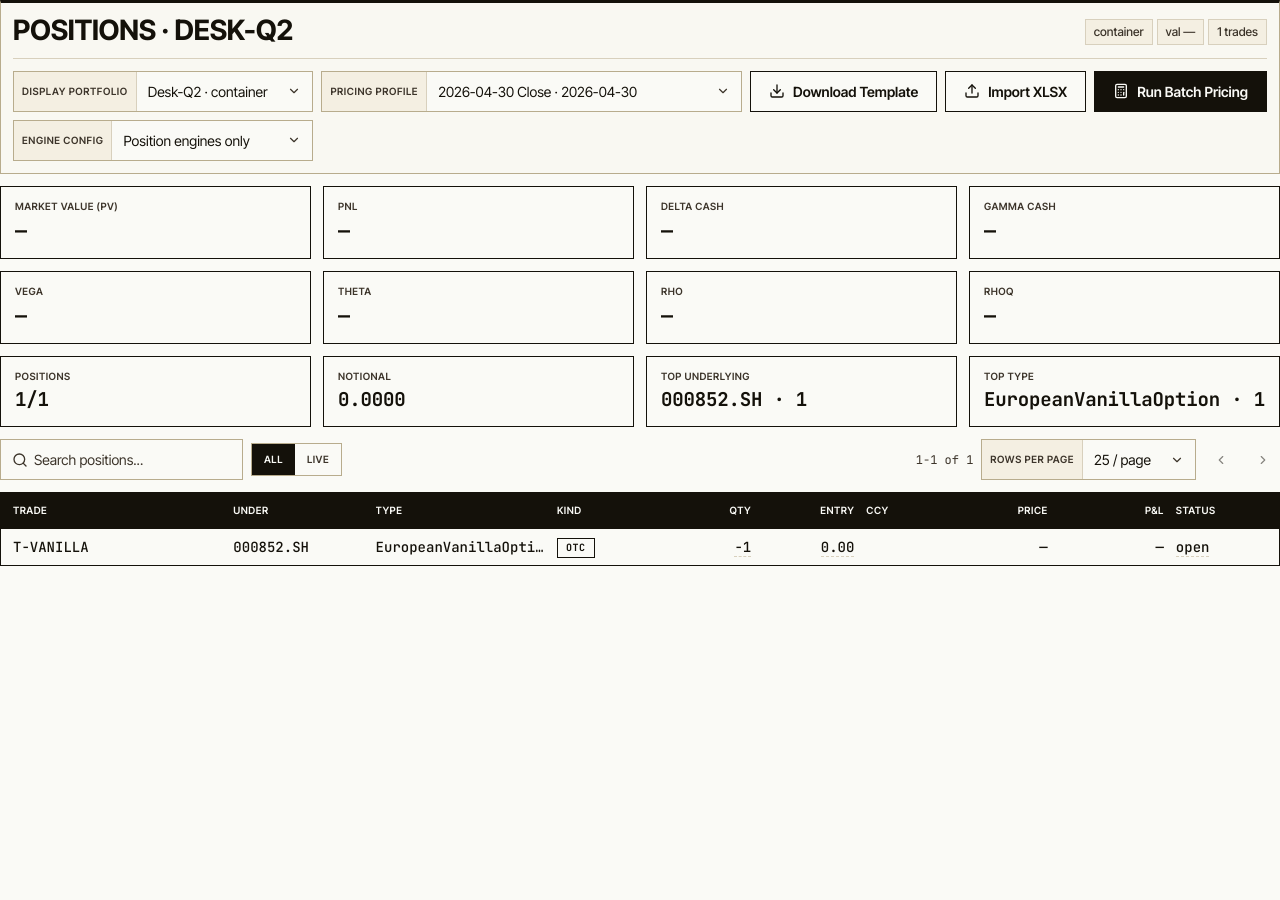
PositionsLive › prefills the position pricing ticket from the server-resolved pricing params
Click the text "T-VANILLA" at (51, 547), box [13, 538, 89, 556]
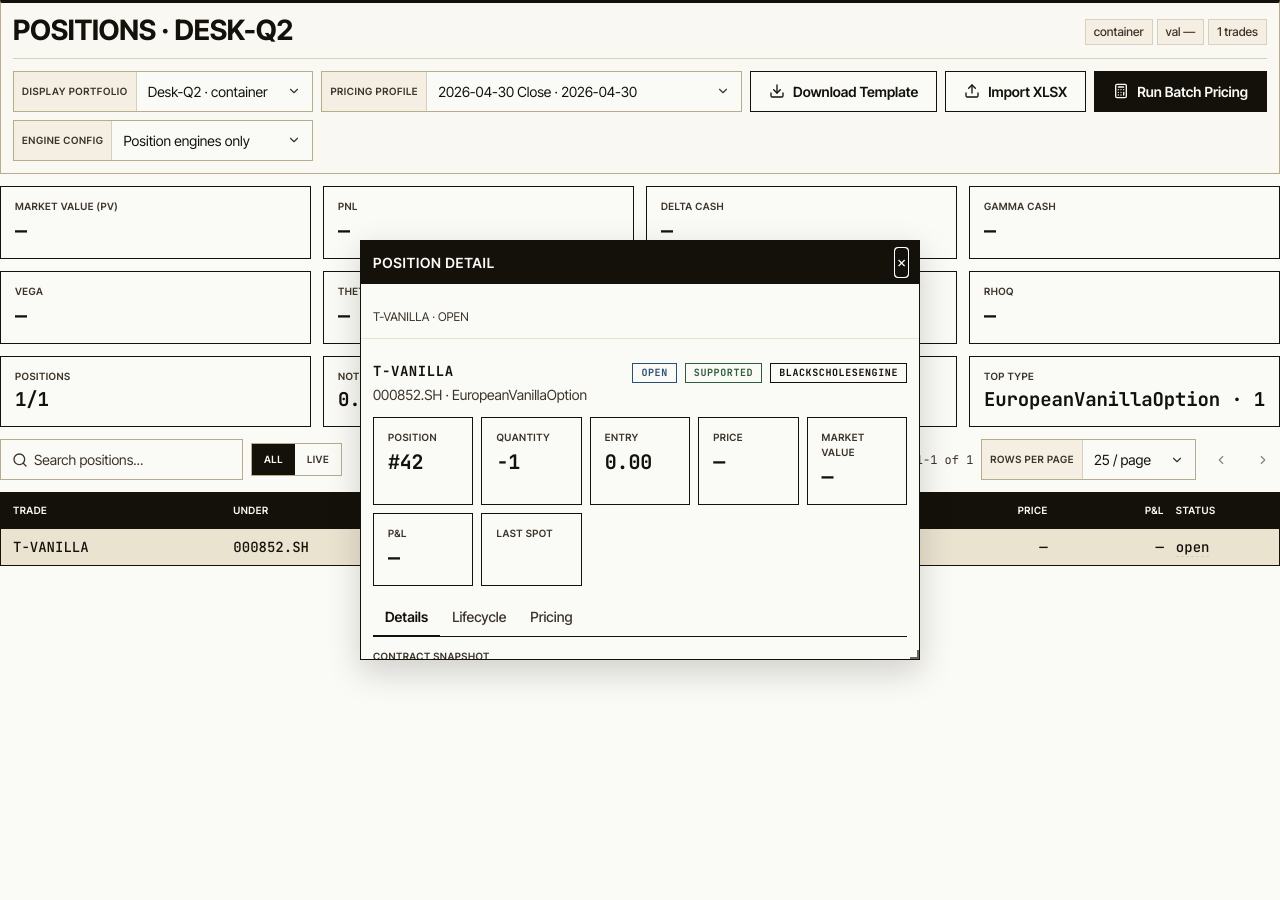
Click the tab "Pricing" at (551, 617), box [518, 598, 584, 637]
(page scrolled)
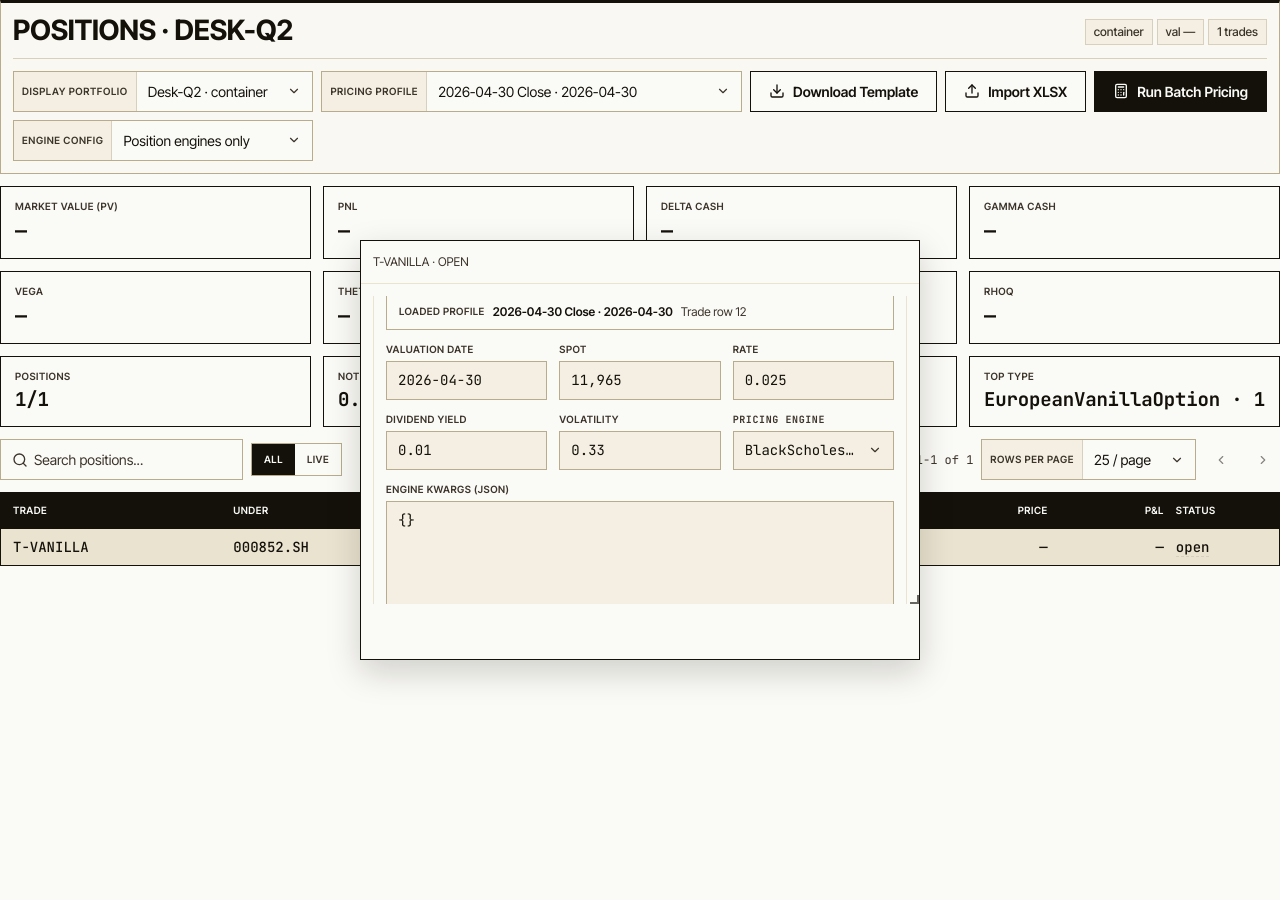
Now the text "Loaded profile" is shown, box [399, 304, 485, 319]
Now the text "2026-04-30 Close · 2026-04-30" next to "Loaded profile" is shown, box [493, 304, 595, 319]
Now the field named "Pricing valuation date" holds "2026-04-30", box [386, 361, 547, 400]
